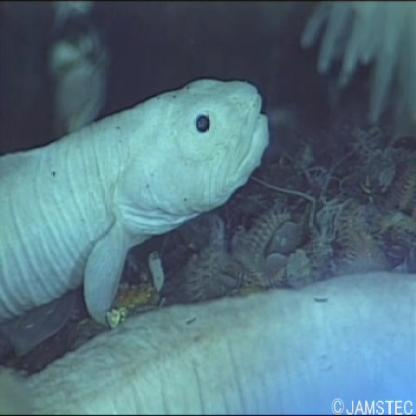Bio: (1, 70, 275, 330)
